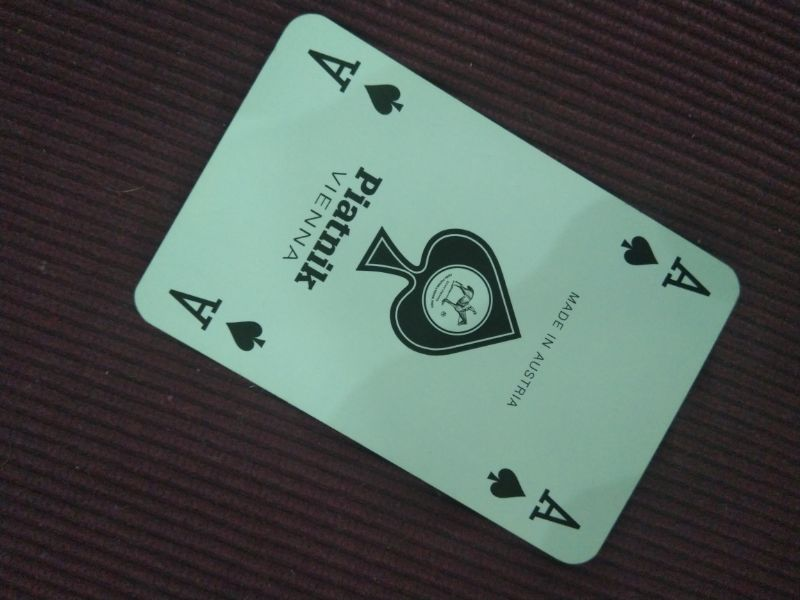As: (301, 43, 405, 119), (162, 282, 270, 354), (483, 464, 586, 535), (614, 229, 714, 301)
